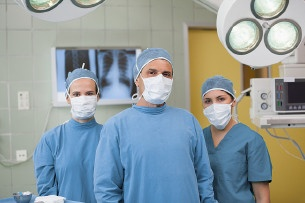Mask: (66, 86, 100, 120)
